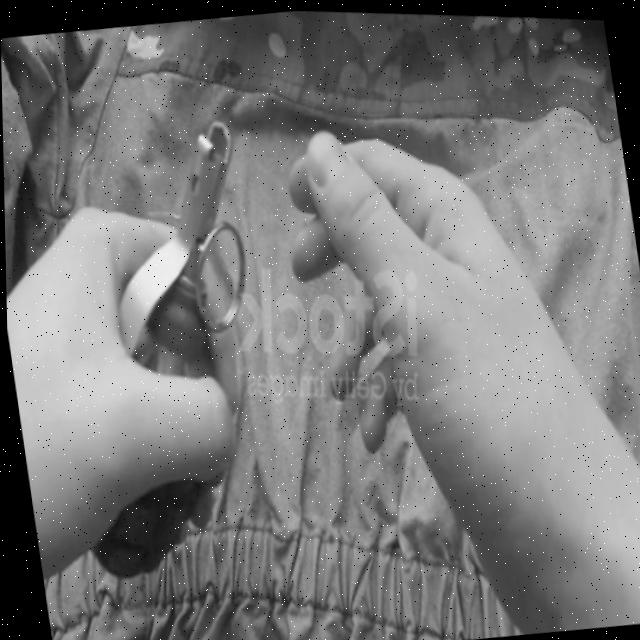grenade: (17, 95, 306, 608)
